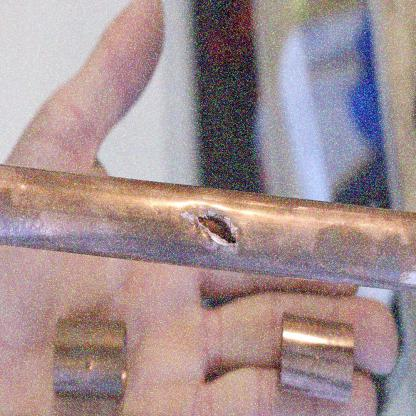burst: (183, 207, 252, 254)
